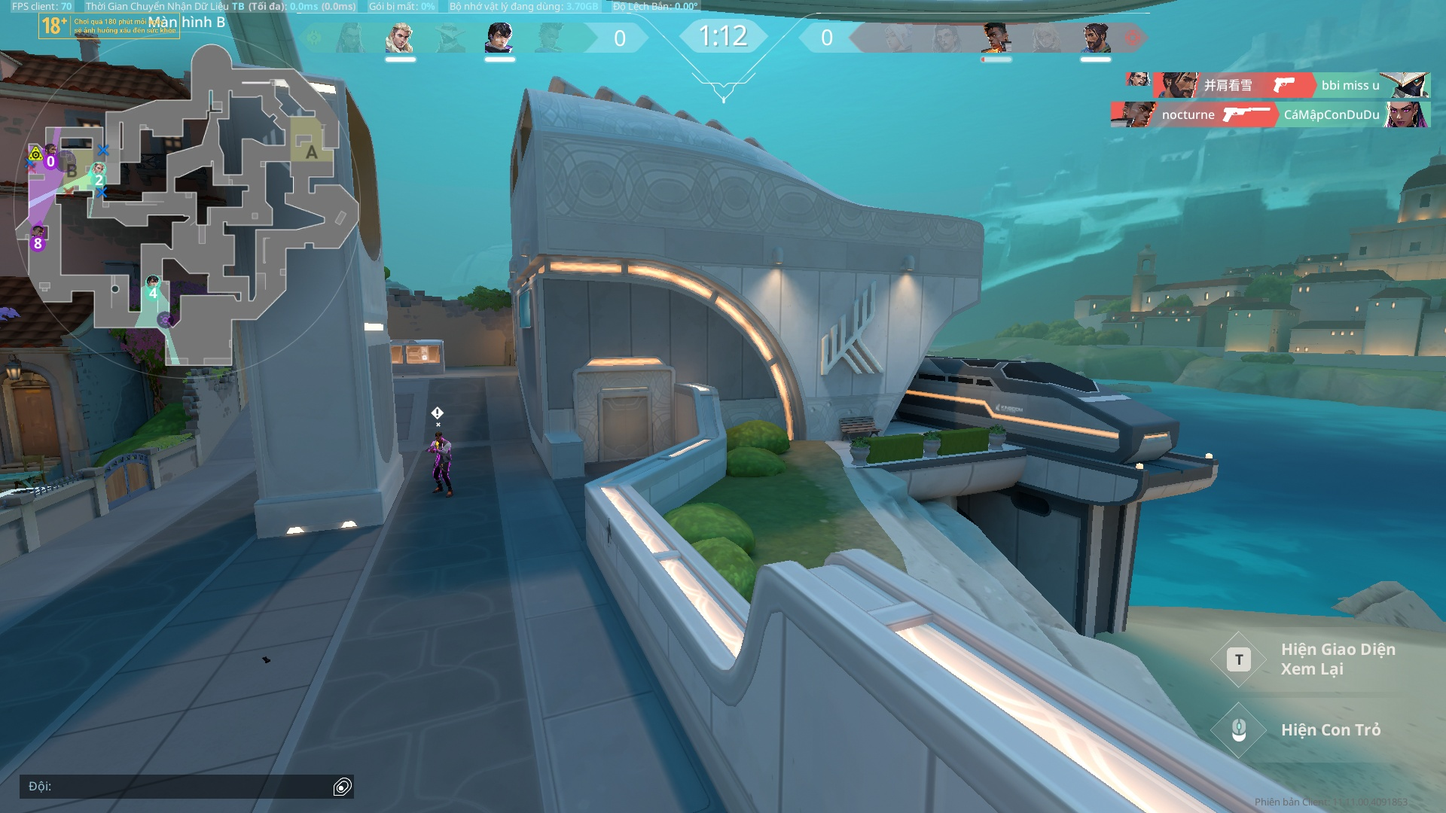body: (432, 438, 452, 462)
head: (433, 432, 442, 442)
